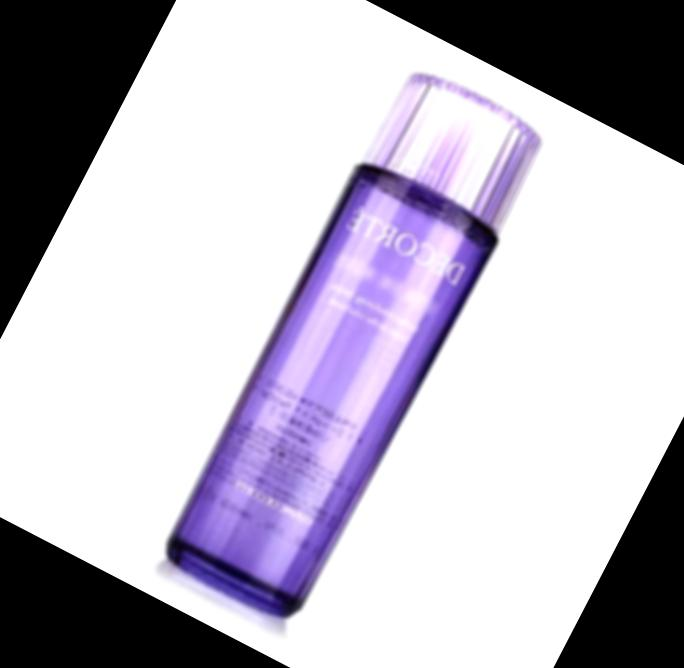cosmetic: (148, 62, 559, 636)
